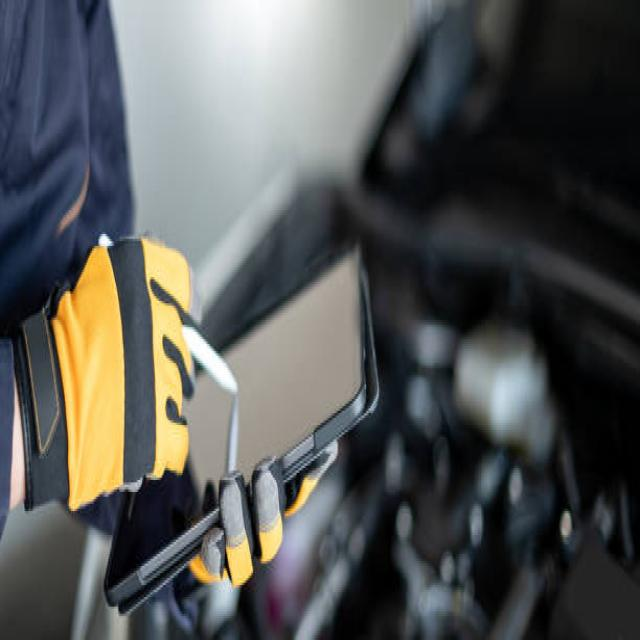Gloves: (10, 228, 204, 523), (186, 429, 341, 590)
